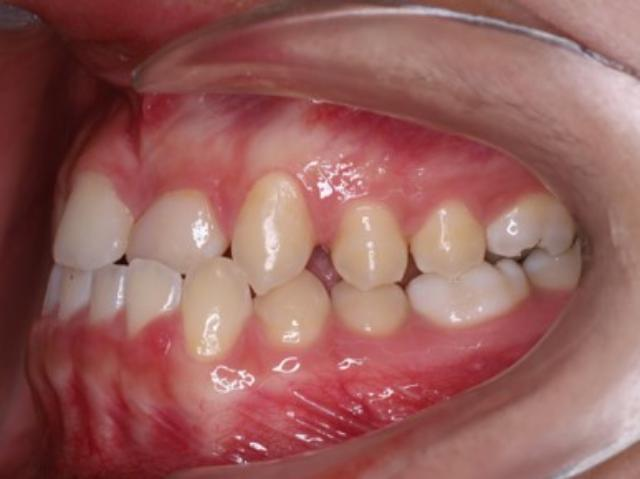canine class III 1/4: (176, 152, 336, 369)
molar class III 3/4: (405, 193, 579, 339)
